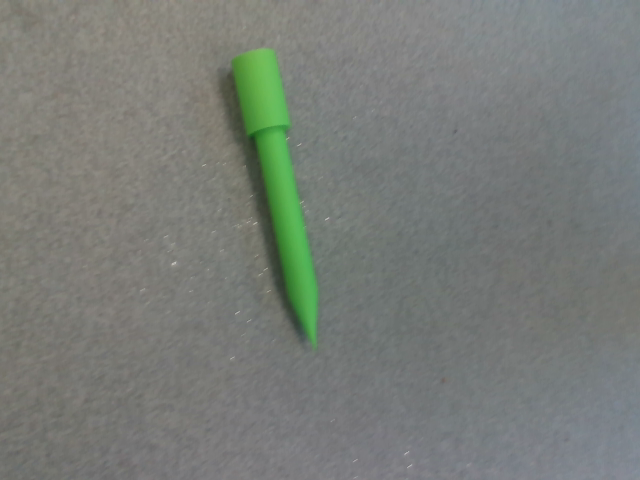Probe: (225, 38, 329, 356)
